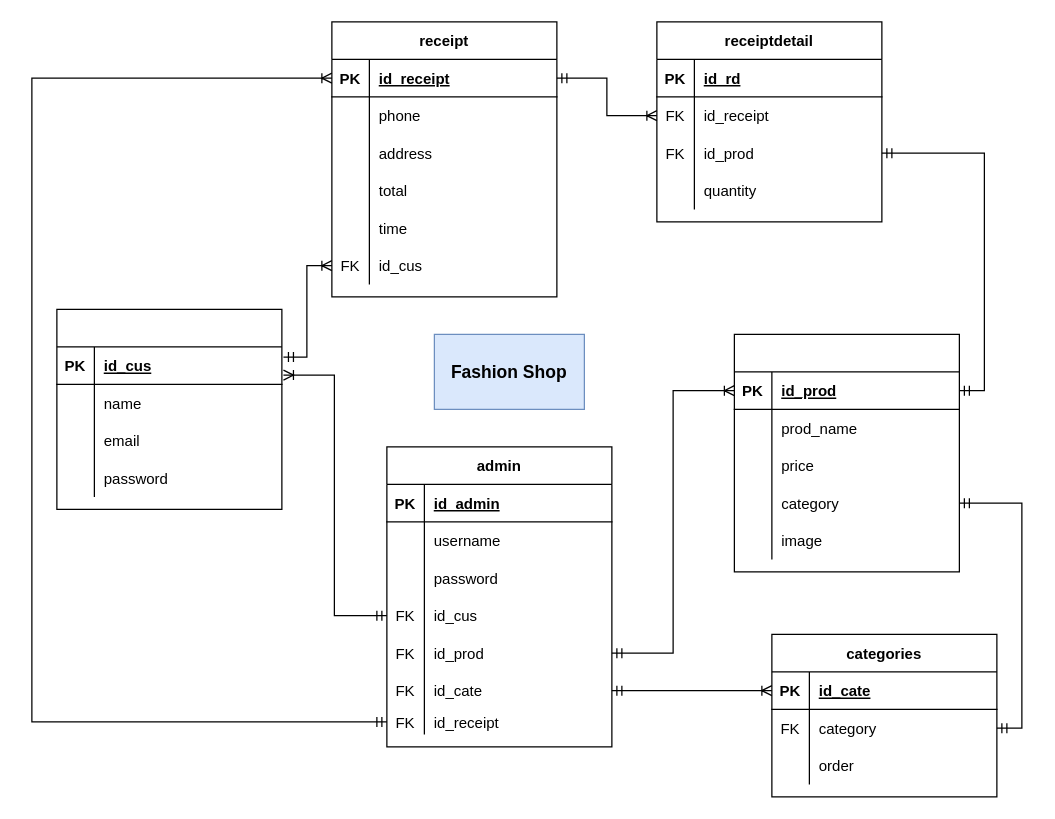
This 1055x819 diagram has some shape labels left out. Each missing label, with the box of its shape:
customer: (56, 308, 282, 509)
products: (733, 333, 959, 572)
